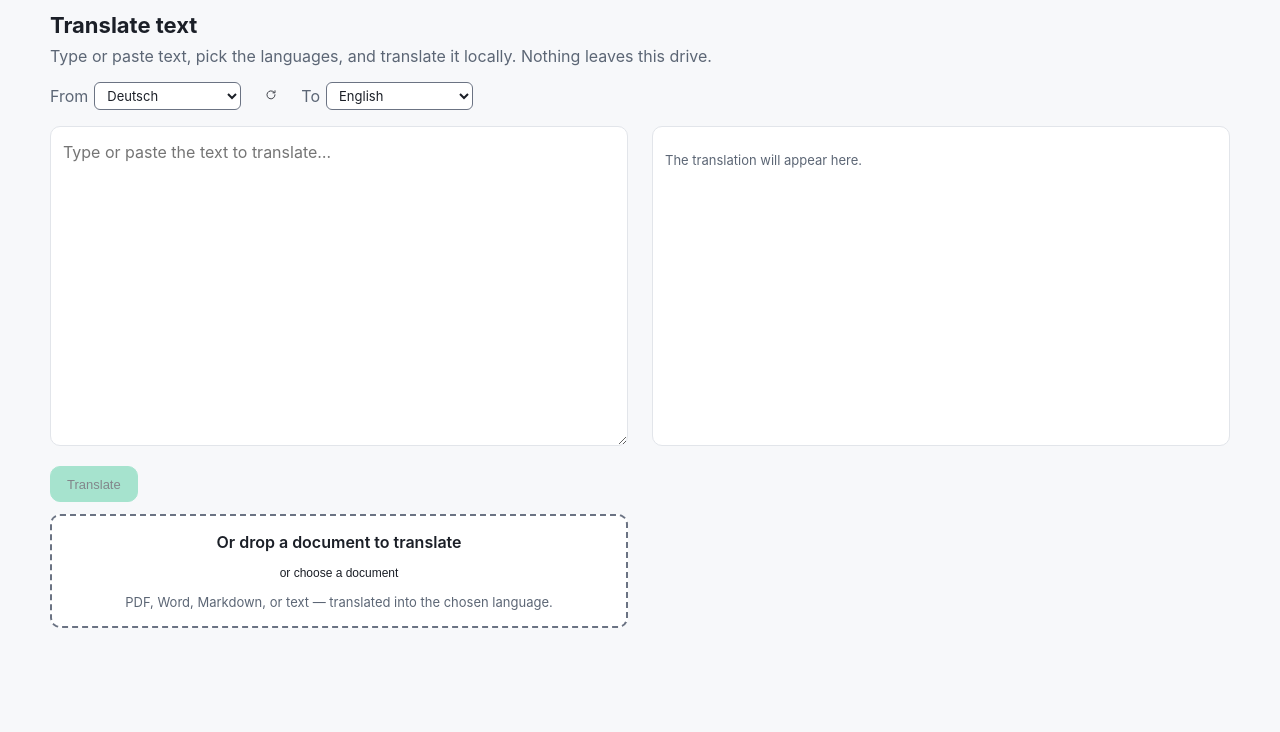
Scenario: TranslateScreen — translate → stream → copy › surfaces the backend's docTaskBusy refusal as a friendly banner
The width and height of the screenshot is (1280, 732).
Type "Hallo" into the text box labelled "text to translate".
click(339, 286); type("Hallo")  # box [50,126,628,446]
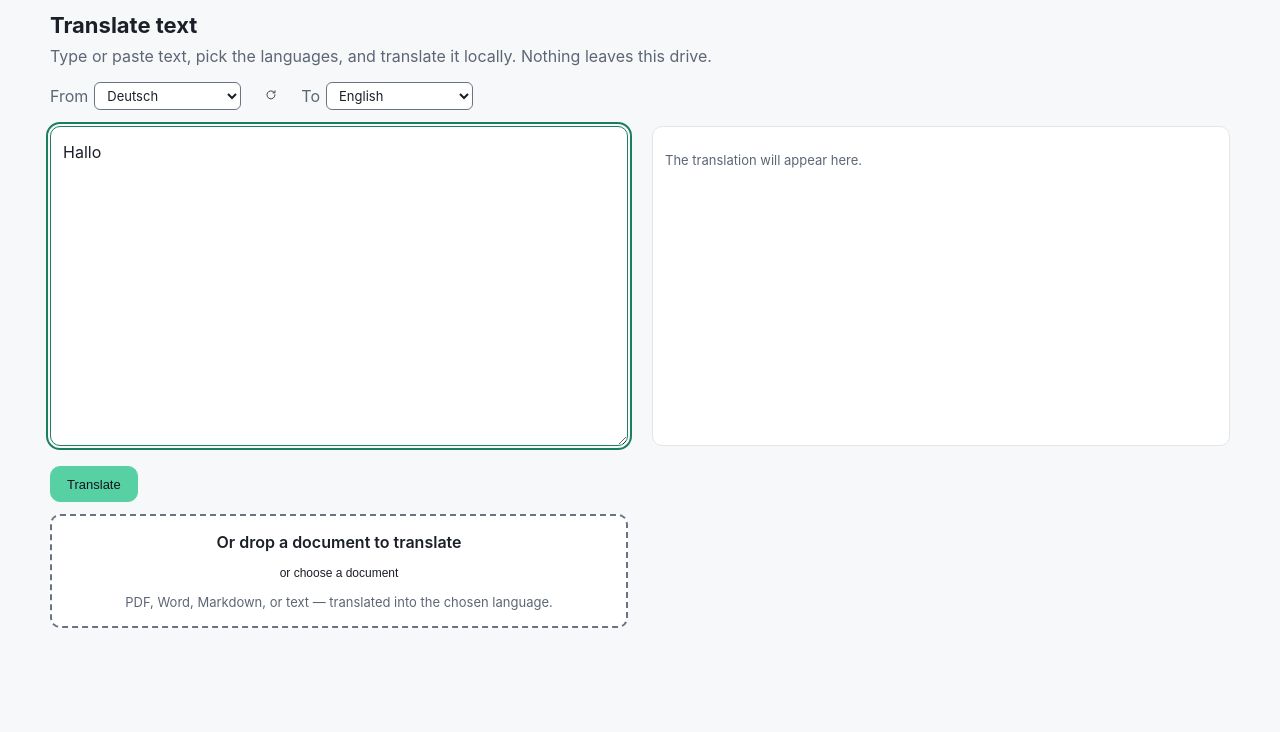
Click the button "Translate".
click(94, 484)  # box [50,466,138,502]
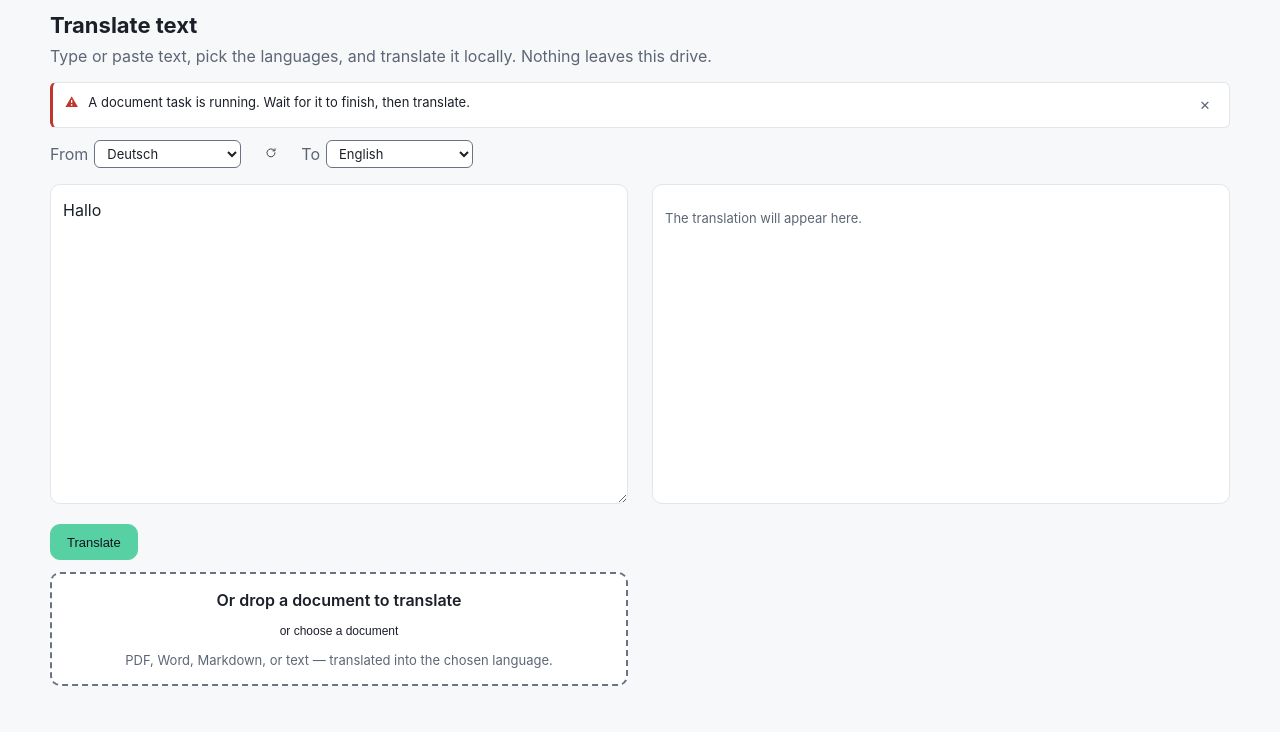
Expected: the text "A document task is running. Wait for it to finish, then translate." is shown, [88,94,470,110]
